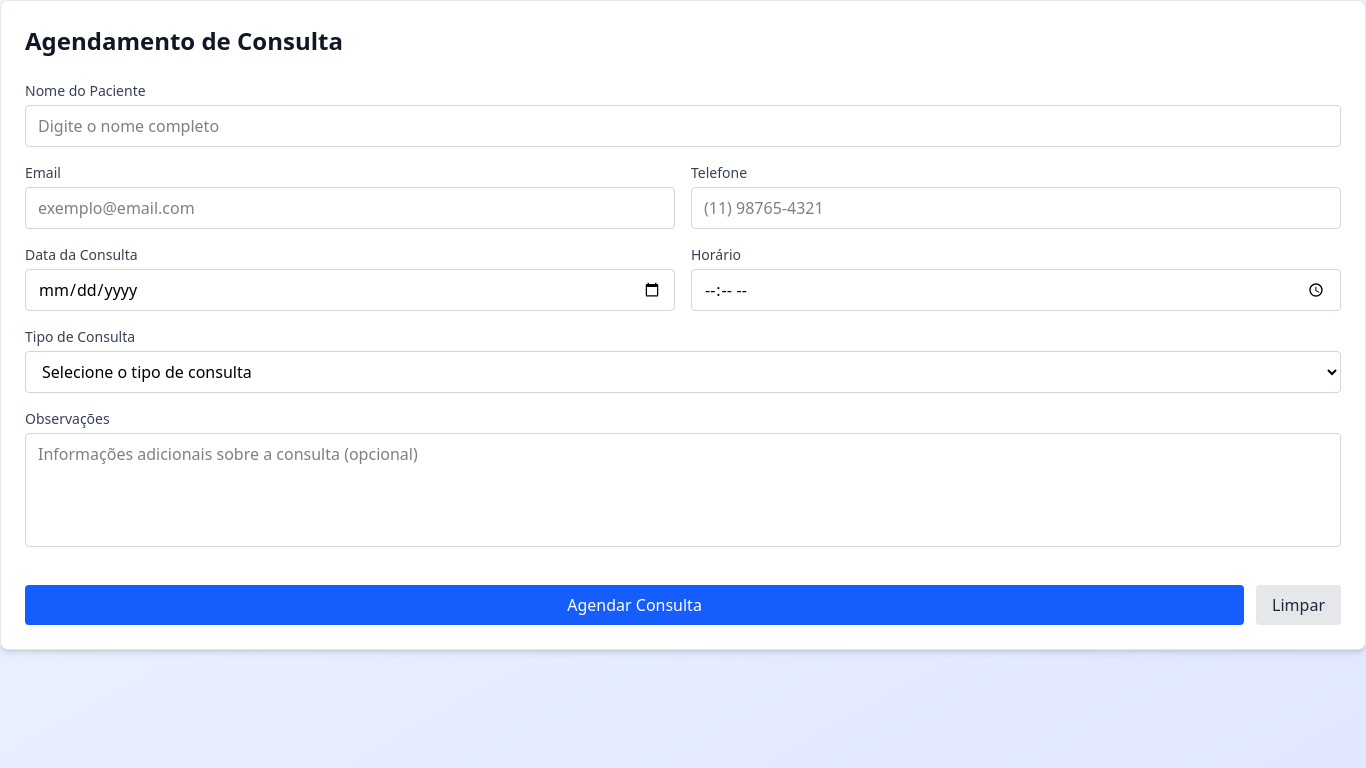
AppointmentForm › Validation - Patient Name › should show error when patient name is too short
The image size is (1366, 768).
In the field labelled "Nome do Paciente": (683, 126) x1=25 y1=105 x2=1341 y2=147, type "Jo"
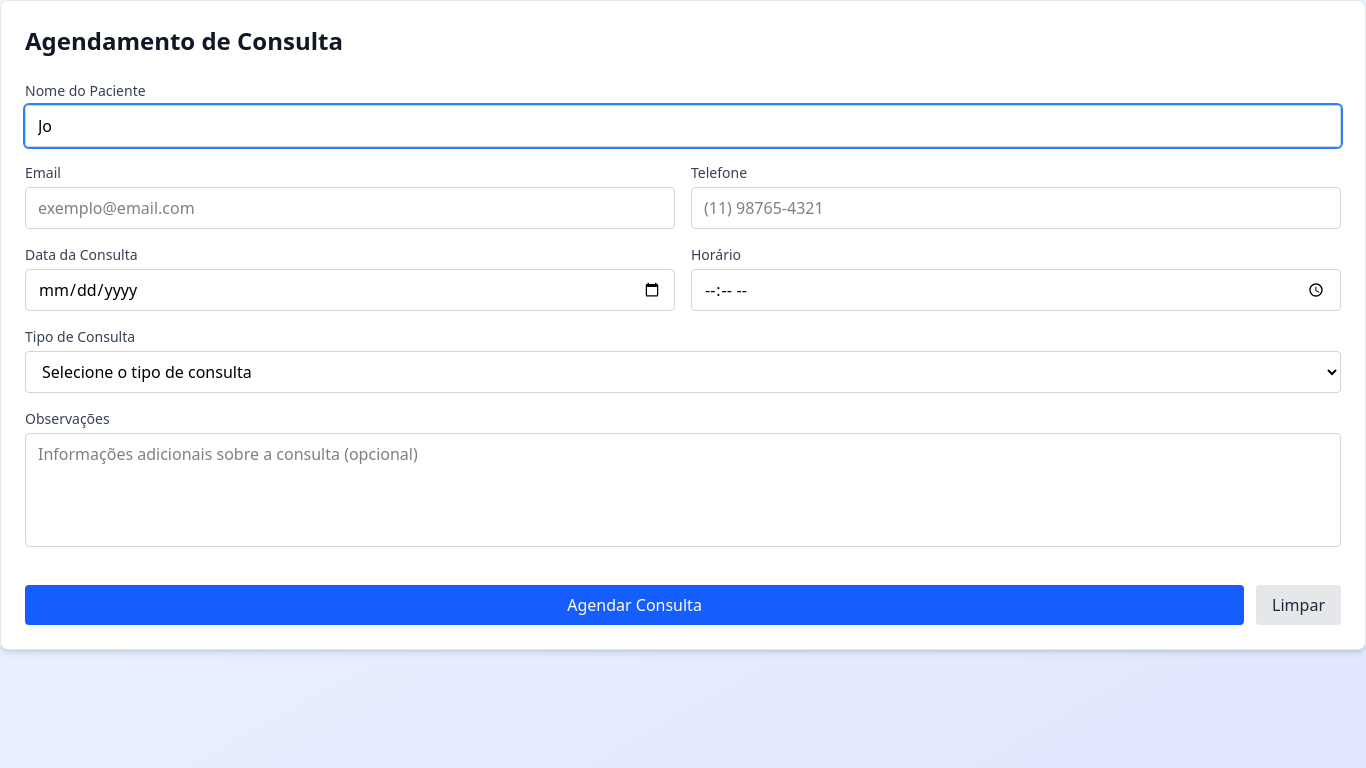
Click the button "Agendar Consulta": (635, 605) x1=25 y1=585 x2=1244 y2=625
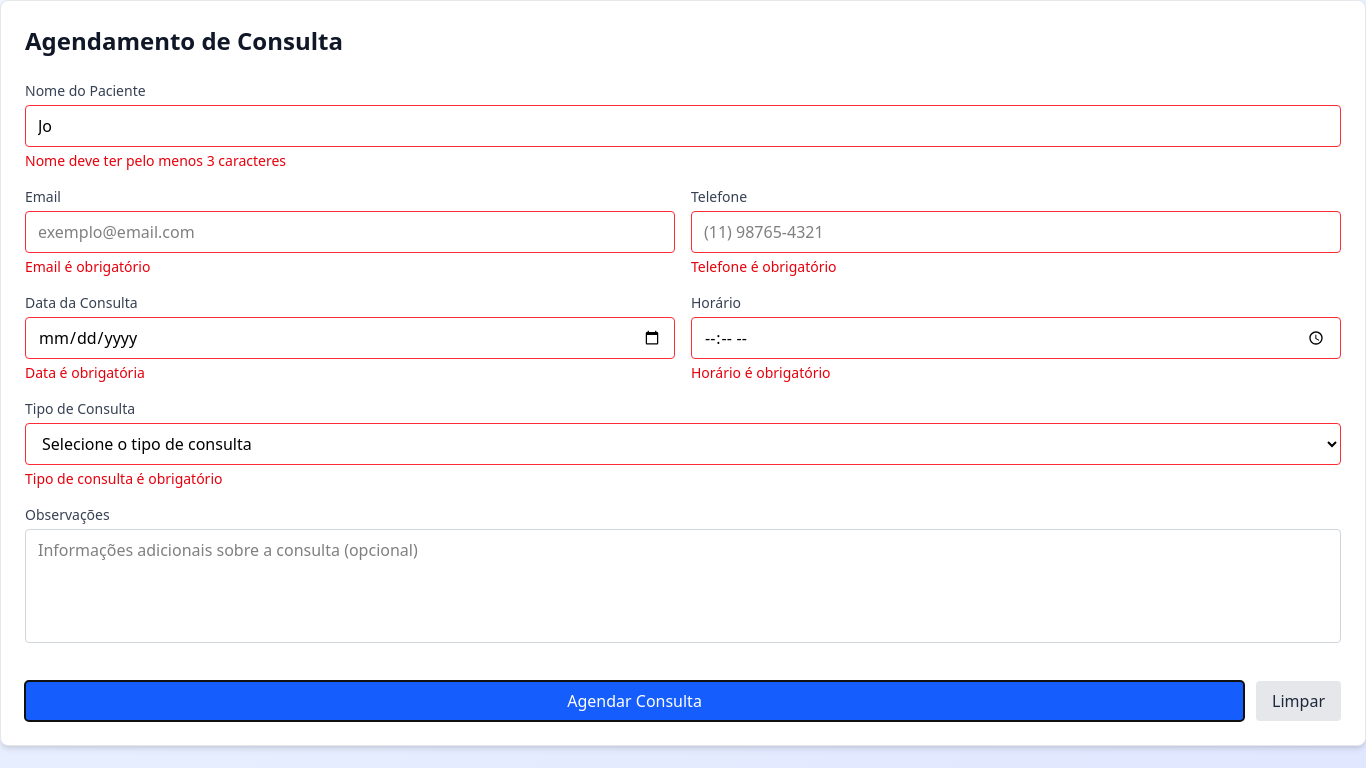
Check: the text "Nome deve ter pelo menos 3 caracteres" is shown, box x1=25 y1=151 x2=286 y2=170
